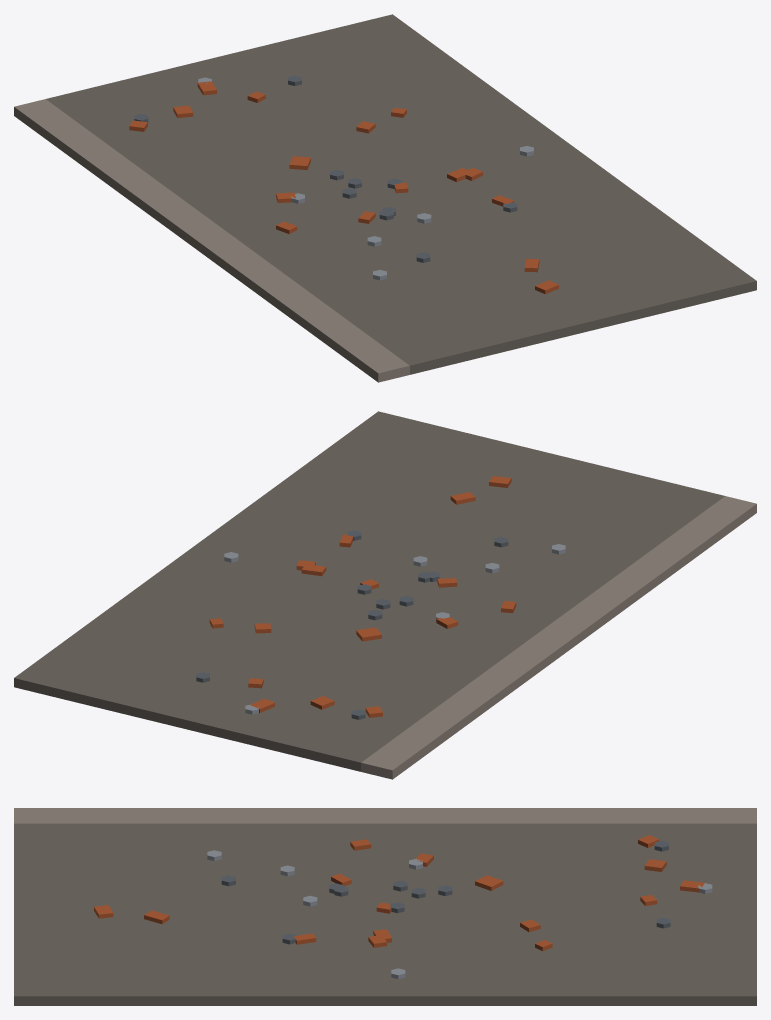
Rendered from env_r7_verge.glb.
The picture shows the model from 3 angles, top to bottom: view 1: azimuth 30°, elevation 25°; view 2: azimuth 150°, elevation 25°; view 3: azimuth 270°, elevation 25°; orthographic projection.
Visible parts, largest first — view 1: env_r7_verge; view 2: env_r7_verge; view 3: env_r7_verge.
Boxes of the visible parts, left/top/right/bottom form: env_r7_verge: left=14, top=14, right=756, bottom=382; env_r7_verge: left=14, top=411, right=756, bottom=779; env_r7_verge: left=14, top=808, right=756, bottom=1005.
Size of the model in its own units: 6 by 0.2 by 10.
Materials: 1 (1 with a texture image).
